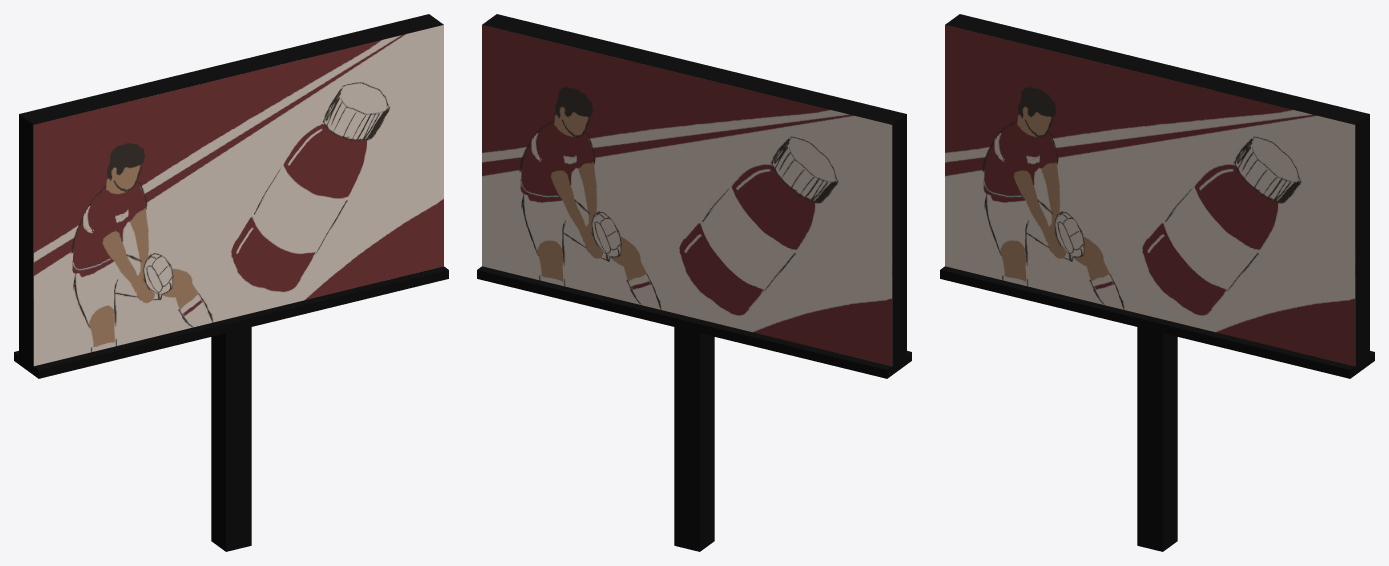
The model's file is Billboard_1_v2.obj.
The picture shows the model from 3 angles, left to right: view 1: azimuth 30°, elevation 25°; view 2: azimuth 150°, elevation 25°; view 3: azimuth 330°, elevation 25°; orthographic projection.
Visible parts, largest first — view 1: Billboard_1; view 2: Billboard_1; view 3: Billboard_1.
Part boxes in pixels (x1,y1,x2,y2): Billboard_1: [14, 14, 448, 551]; Billboard_1: [477, 14, 911, 551]; Billboard_1: [940, 14, 1374, 551].
Bounding box in the file's own units: 9.6 × 10.6 × 1.
Materials: 2 (1 with a texture image).
